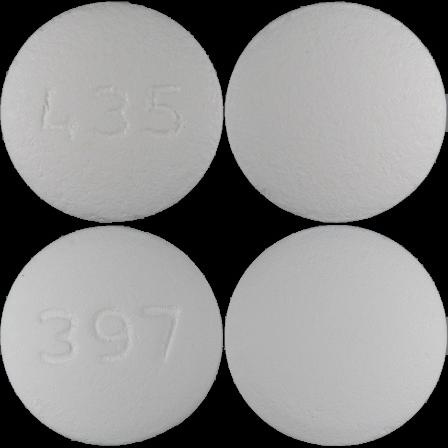53808-0718: (0, 0, 224, 224)
